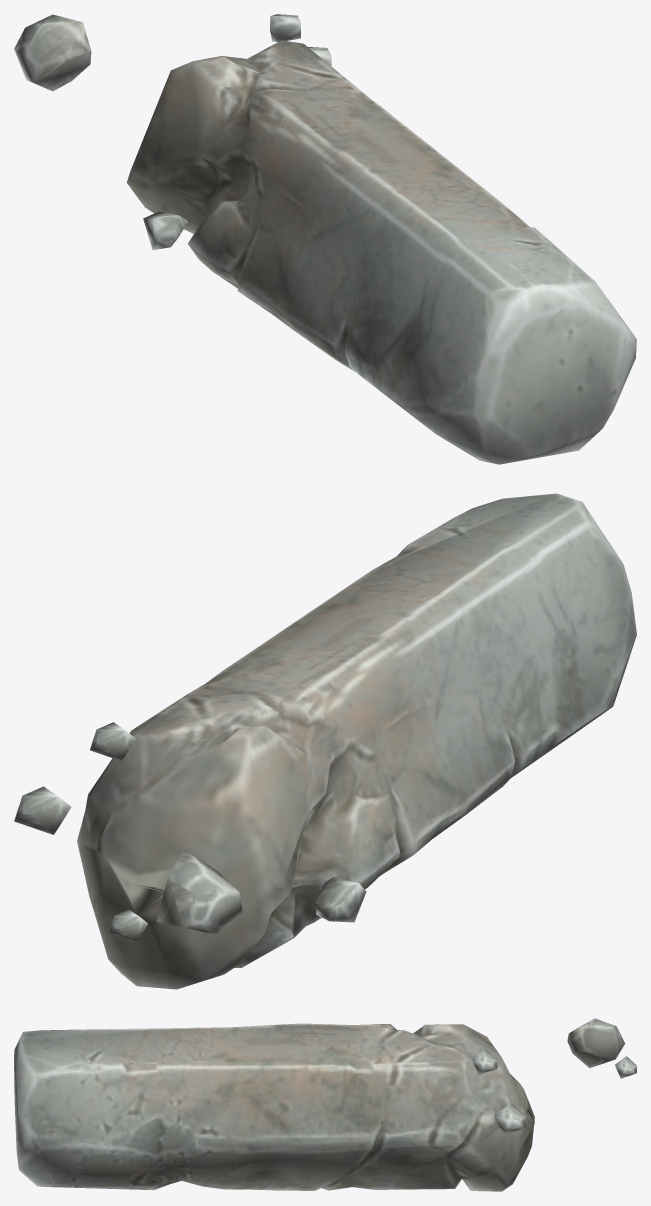
Rendered from VD_Basalt_Single_C.fbx.
3 renders of one model, top to bottom at view 1: azimuth 30°, elevation 25°; view 2: azimuth 150°, elevation 25°; view 3: azimuth 270°, elevation 25°, orthographic. The views are drawn at different scales.
Parts seen in each view (by area): view 1: VD_Basalt_Single_C; view 2: VD_Basalt_Single_C; view 3: VD_Basalt_Single_C.
Part boxes in pixels (bbox=[...]): VD_Basalt_Single_C: bbox=[14, 14, 636, 464]; VD_Basalt_Single_C: bbox=[14, 493, 636, 989]; VD_Basalt_Single_C: bbox=[14, 1018, 636, 1191].
Bounding box in the file's own units: 286 × 228 × 883.
